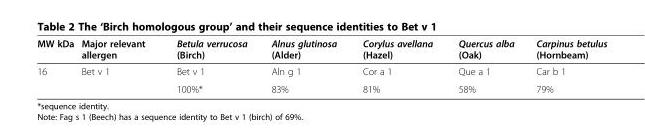table: (36, 37, 606, 94)
table column: (160, 37, 258, 94), (349, 37, 444, 94), (258, 37, 349, 94), (77, 37, 160, 94), (524, 37, 606, 94), (444, 37, 524, 94), (36, 37, 77, 94)
table column header: (36, 37, 606, 62)
table row: (36, 37, 606, 62), (36, 62, 606, 79), (36, 79, 606, 94)
table spanning cell: (77, 62, 160, 94), (36, 62, 77, 94)
